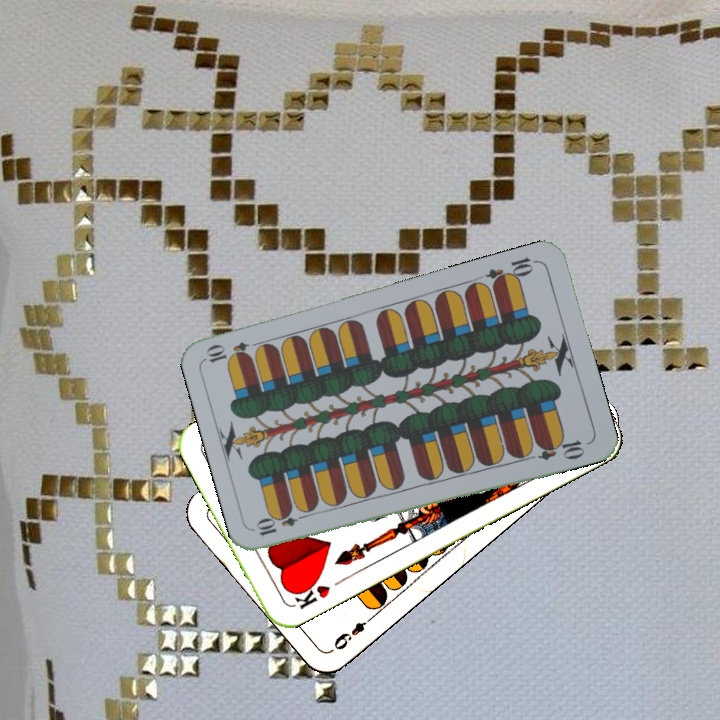E10: (482, 253, 540, 290), (253, 508, 311, 539)
E9: (329, 611, 377, 653)
HK: (287, 575, 333, 612)
